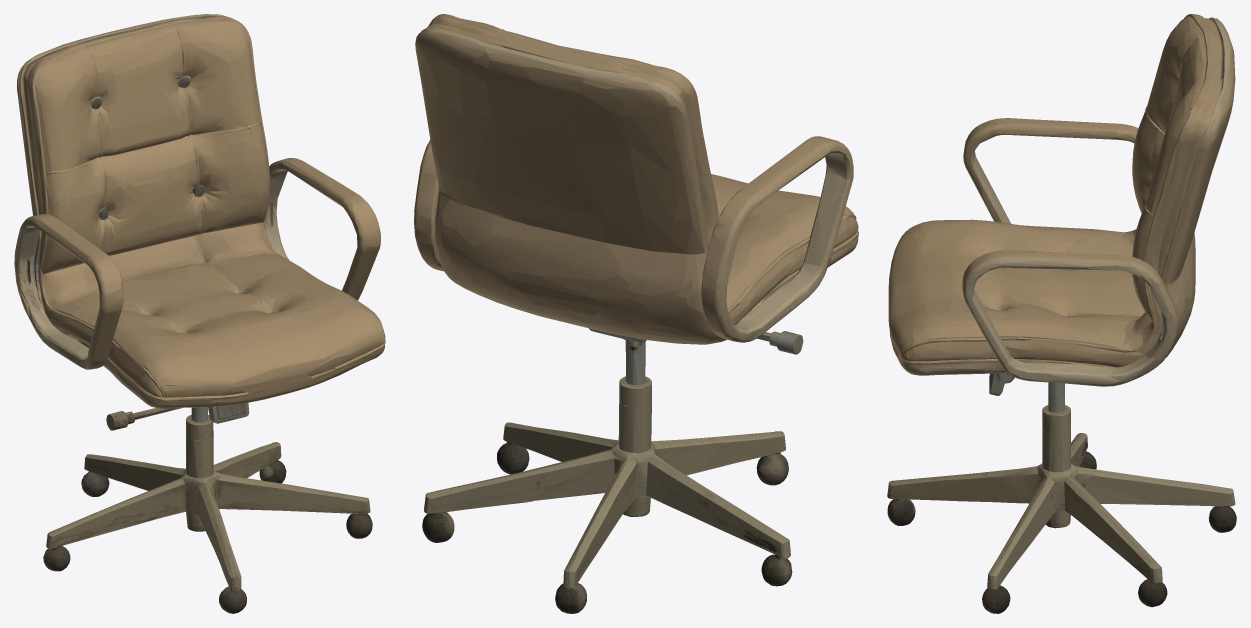
The model's file is sedia_A.glb.
3 renders of one model, left to right at view 1: azimuth 30°, elevation 25°; view 2: azimuth 150°, elevation 25°; view 3: azimuth 270°, elevation 25°, orthographic. The views are drawn at different scales.
Size of the model in its own units: 1.22 by 1.9 by 1.24.
Materials: 1 (1 with a texture image).
